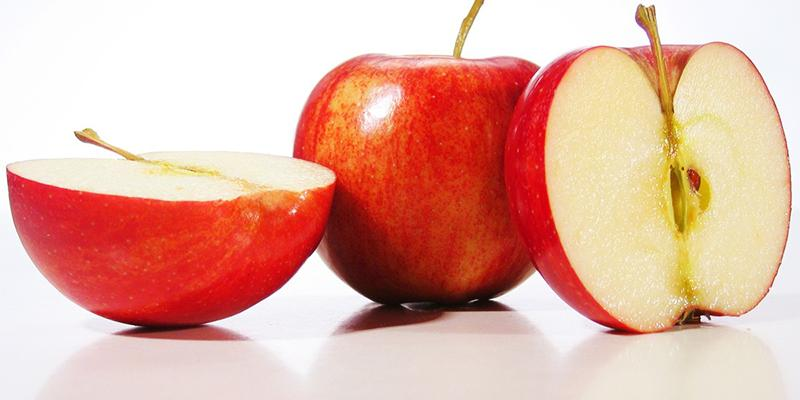apples: (12, 2, 791, 343)
